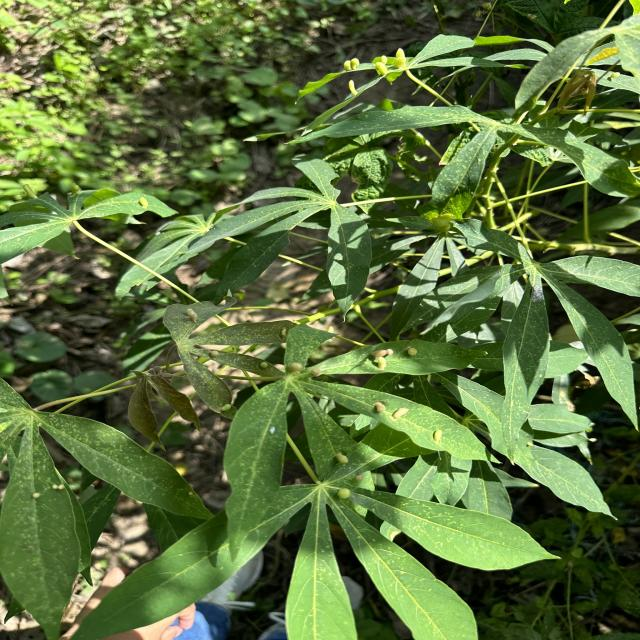Mosca: (358, 381, 419, 434), (334, 435, 367, 515), (176, 297, 222, 353), (375, 335, 427, 381), (268, 349, 325, 384), (34, 465, 74, 504), (414, 414, 450, 454), (297, 303, 338, 338), (222, 314, 275, 341), (119, 194, 156, 218), (267, 416, 285, 443)
